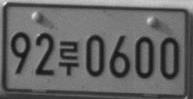0: (134, 35, 155, 79), (159, 36, 180, 80), (84, 34, 105, 77)
2: (33, 31, 55, 75)
6: (108, 35, 130, 78)
9: (10, 31, 31, 75)
루: (58, 40, 79, 75)
